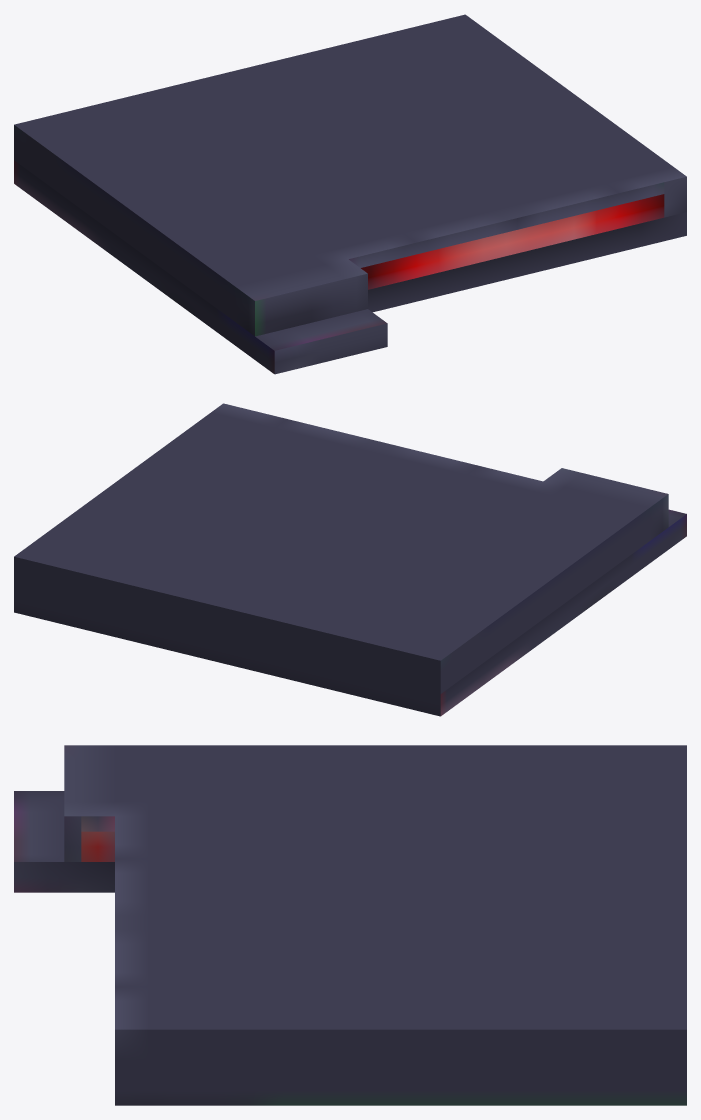
The model's file is PavementTile_C_00.fbx.
3 views of the same model, one above another, from view 1: azimuth 30°, elevation 25°; view 2: azimuth 150°, elevation 25°; view 3: azimuth 270°, elevation 25° (orthographic). The views are drawn at different scales.
Visible parts, largest first — view 1: PavementTile_C_00; view 2: PavementTile_C_00; view 3: PavementTile_C_00.
Boxes of the visible parts, x1,y1,x2,y2 form: PavementTile_C_00: [14, 14, 686, 374]; PavementTile_C_00: [14, 403, 686, 716]; PavementTile_C_00: [14, 745, 686, 1105].
Bounding box in the file's own units: 200 × 25 × 200.
